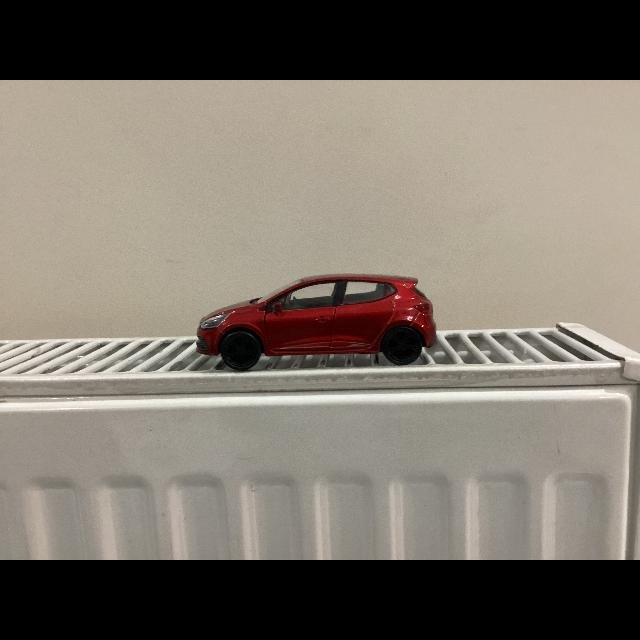Dogru_Jant: (222, 333, 258, 369), (388, 331, 418, 361)
